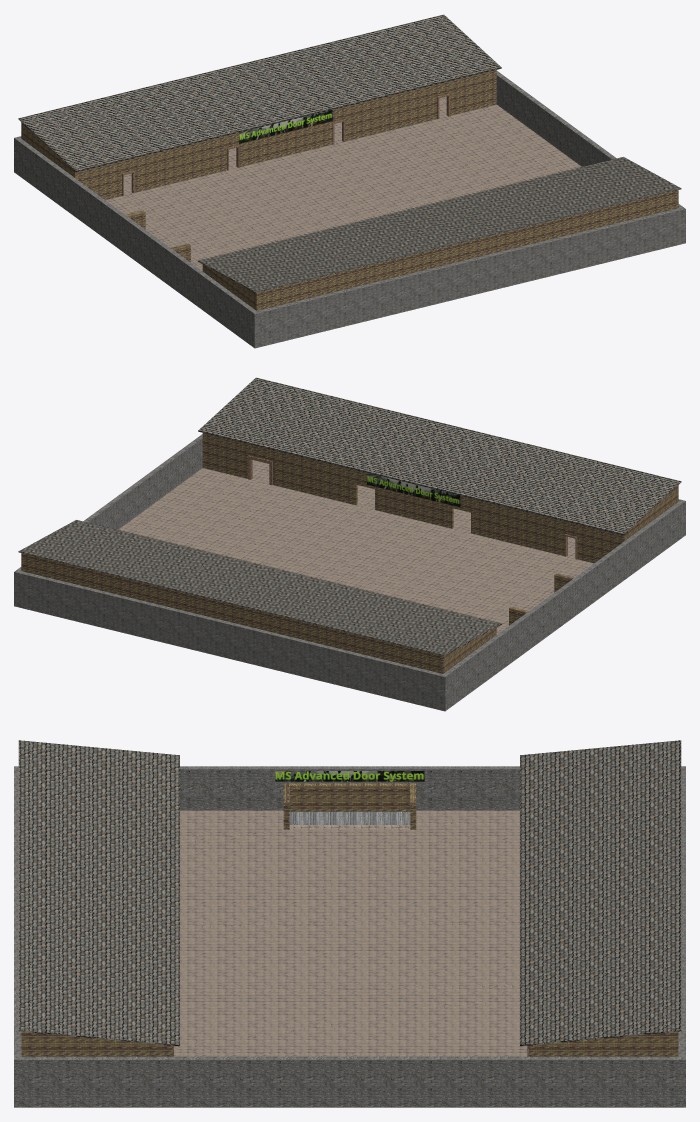
File: Scenario.fbx
3 renders of one model, top to bottom at view 1: azimuth 30°, elevation 25°; view 2: azimuth 150°, elevation 25°; view 3: azimuth 270°, elevation 25°, orthographic. The views are drawn at different scales.
Parts seen in each view (by area): view 1: Scenario; view 2: Scenario; view 3: Scenario.
Boxes of the visible parts, x1,y1,x2,y2 form: Scenario: [14, 14, 685, 348]; Scenario: [14, 377, 685, 711]; Scenario: [14, 740, 685, 1107].
Size of the model in its own units: 4600 by 555 by 4450.
Materials: 7 (7 with a texture image).
